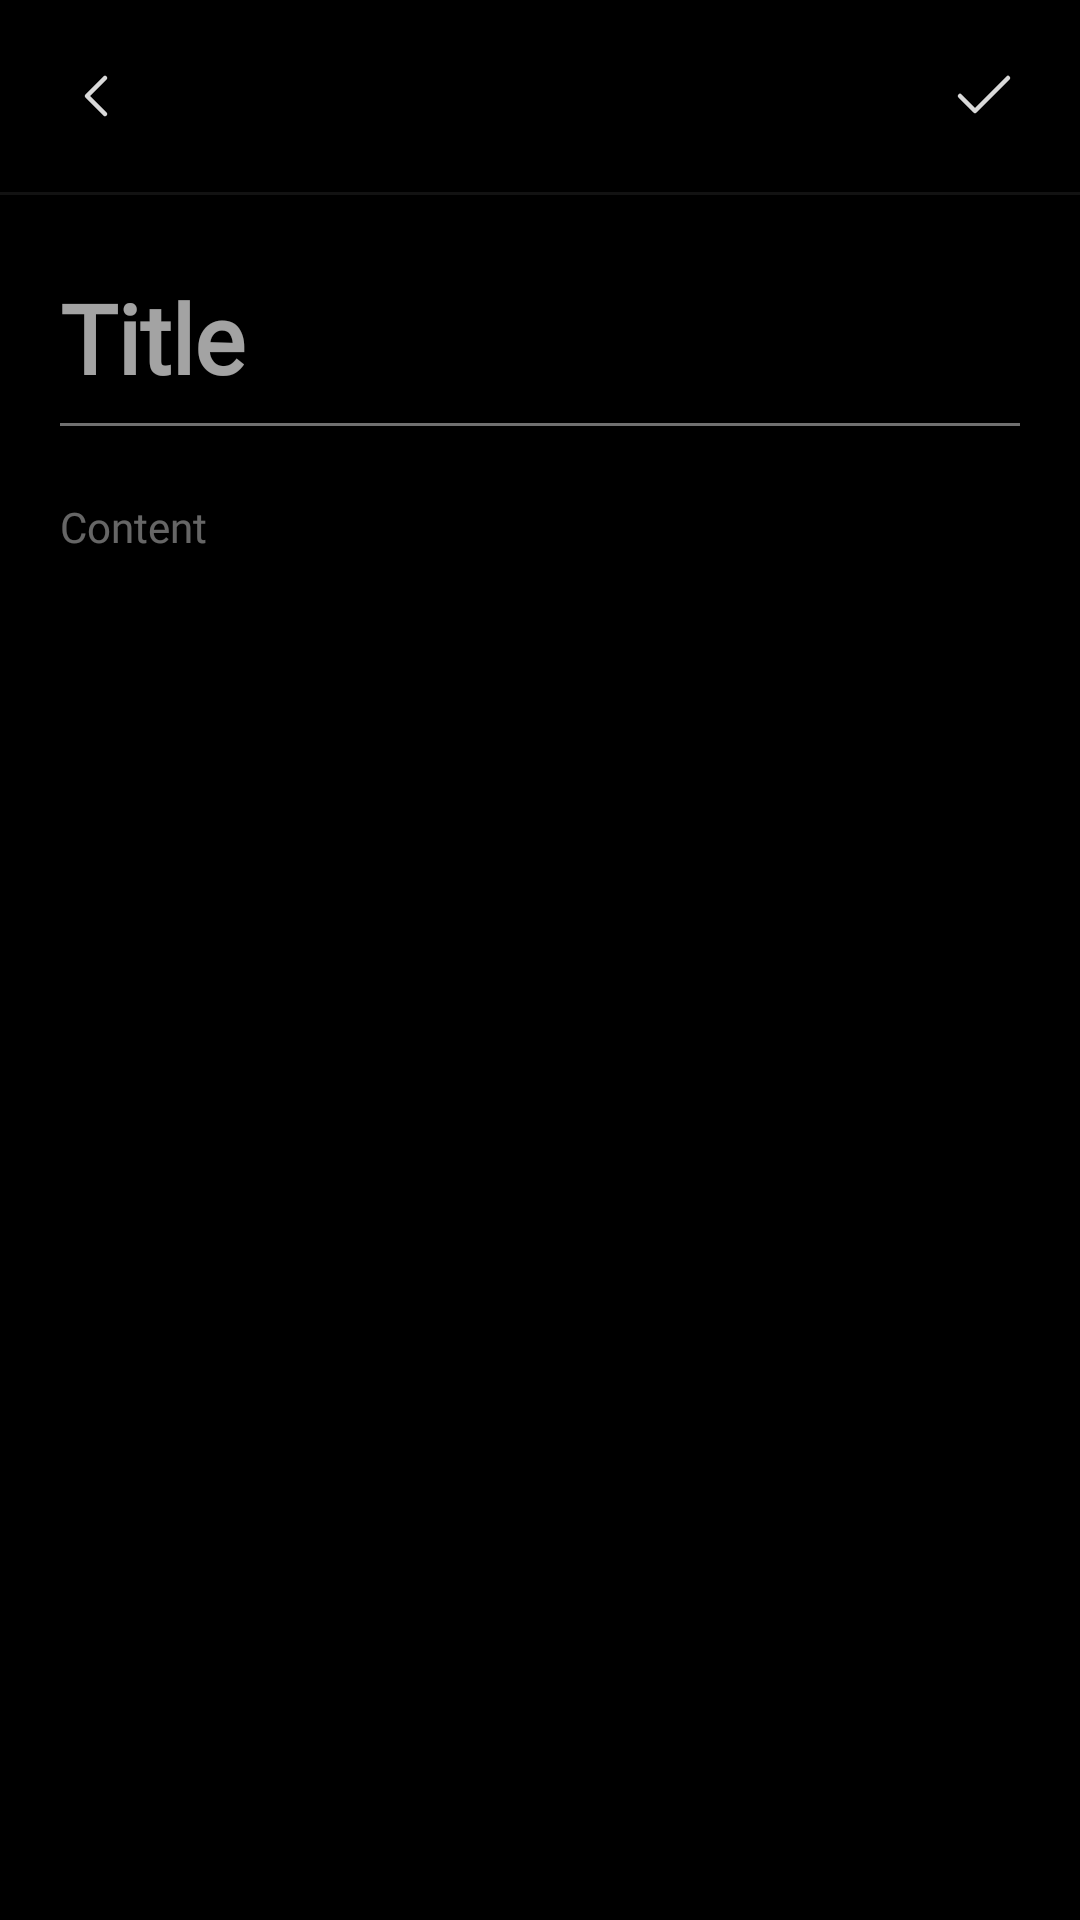

Icon bounding boxes for this 1080w x 1920h phone screenshot, format (x1, y1, x2, y2):
back: (84, 75, 108, 117)
tick: (957, 75, 1010, 114)
